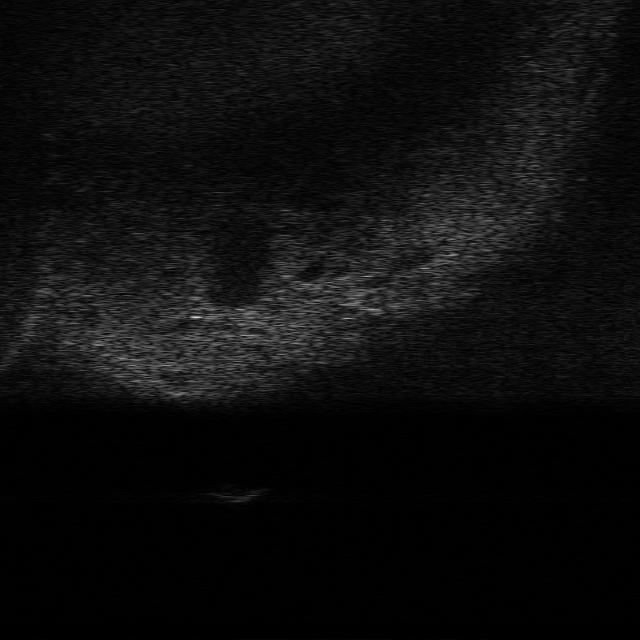cube: (205, 480, 266, 504)
